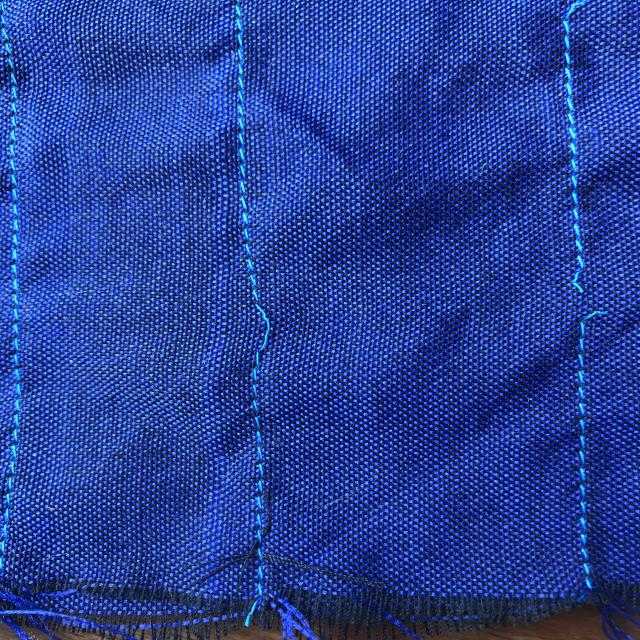broken: (551, 248, 616, 332)
skip: (235, 284, 291, 362)
